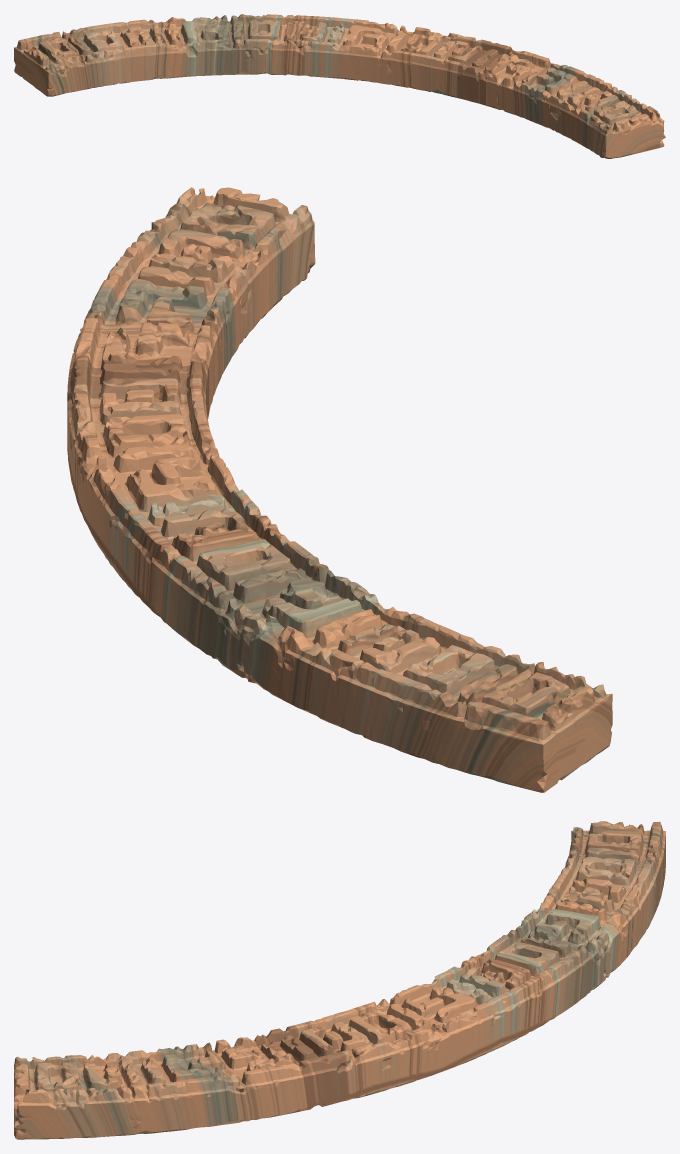
The model's file is SM_StonePattern_C.fbx.
3 renders of one model, top to bottom at view 1: azimuth 30°, elevation 25°; view 2: azimuth 150°, elevation 25°; view 3: azimuth 270°, elevation 25°, orthographic. The views are drawn at different scales.
Parts seen in each view (by area): view 1: SM_StonePattern_C_LOD0; view 2: SM_StonePattern_C_LOD0; view 3: SM_StonePattern_C_LOD0.
Part boxes in pixels (left/top/right/bottom): SM_StonePattern_C_LOD0: left=14, top=14, right=665, bottom=158; SM_StonePattern_C_LOD0: left=67, top=187, right=612, bottom=792; SM_StonePattern_C_LOD0: left=14, top=821, right=665, bottom=1139.
Size of the model in its own units: 271 by 272 by 21.02.
